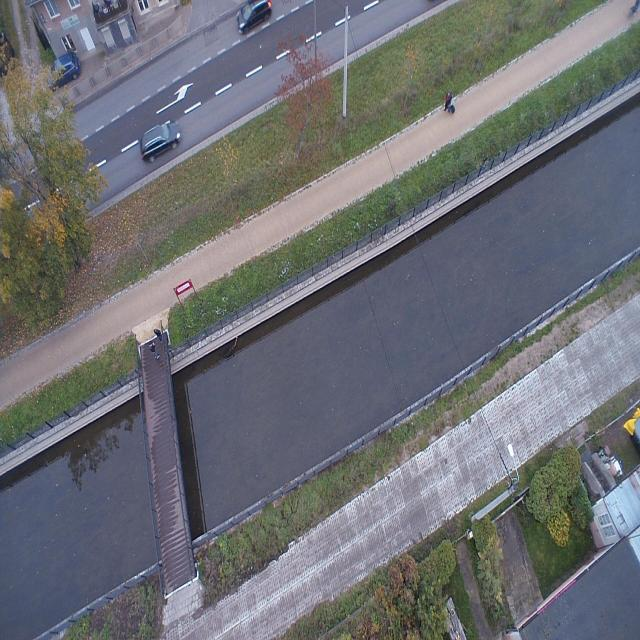p3rson: (149, 342, 160, 360), (444, 91, 452, 111), (154, 327, 162, 343)
